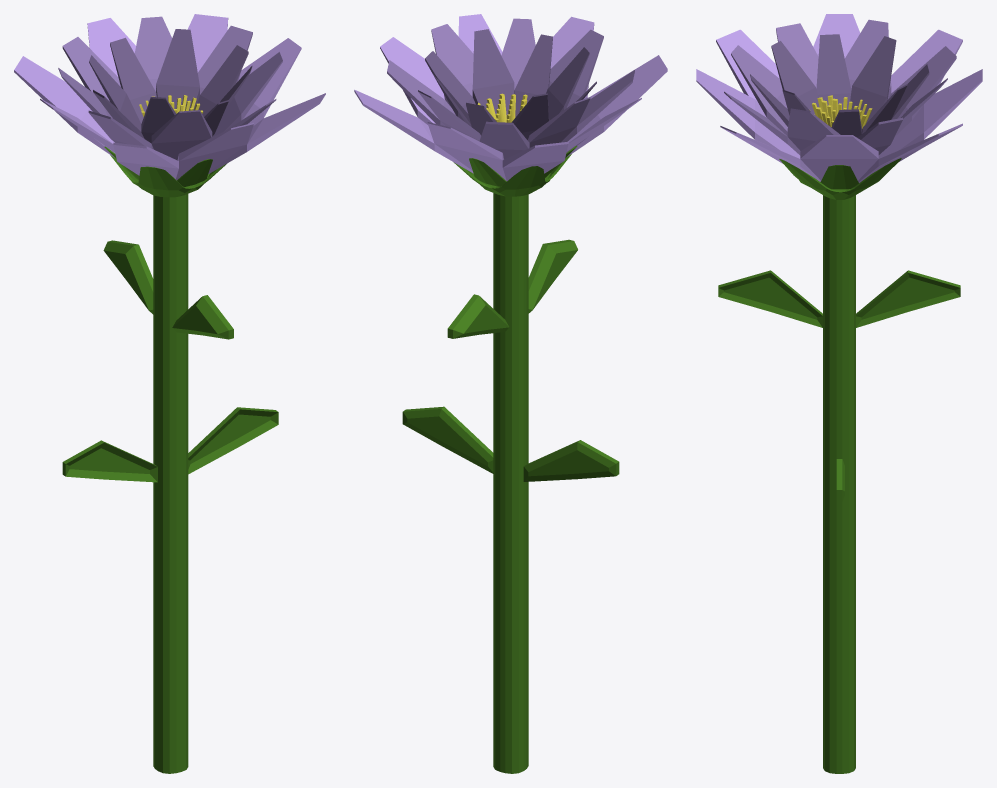
File: Flower1.fbx
3 renders of one model, left to right at view 1: azimuth 30°, elevation 25°; view 2: azimuth 150°, elevation 25°; view 3: azimuth 270°, elevation 25°, orthographic.
Visible parts, largest first — view 1: Cube.004; view 2: Cube.004; view 3: Cube.004.
Boxes of the visible parts, left/top/right/bottom form: Cube.004: left=14, top=14, right=325, bottom=773; Cube.004: left=354, top=14, right=667, bottom=773; Cube.004: left=696, top=14, right=982, bottom=773.
Size of the model in its own units: 120 by 325 by 120.
